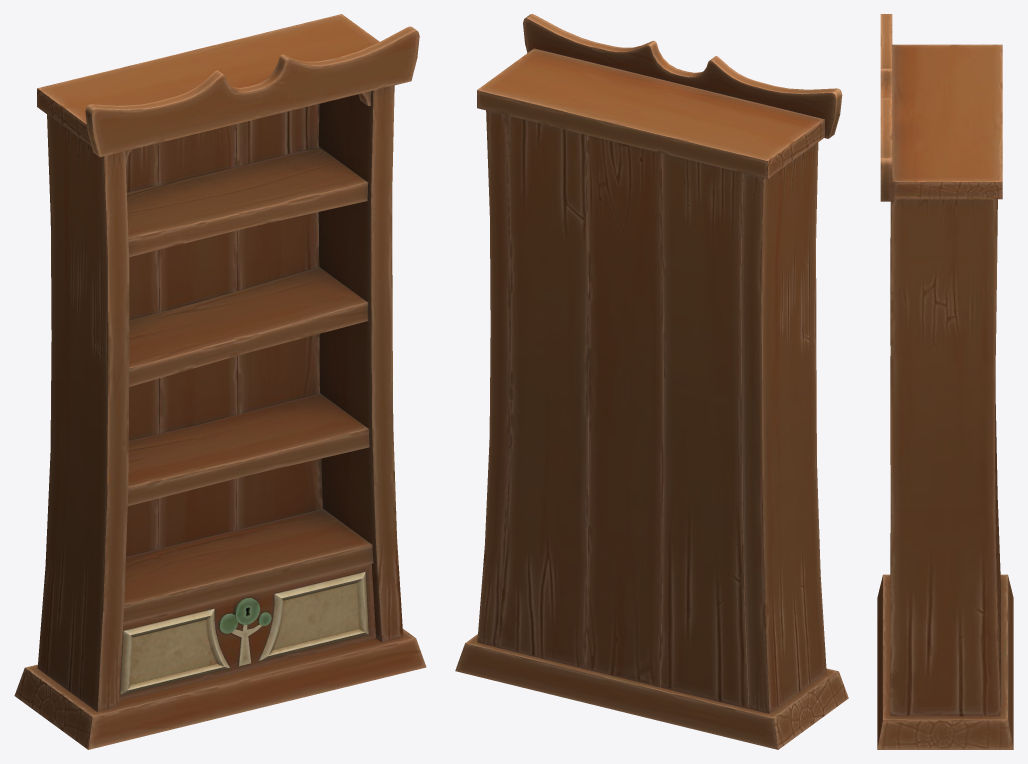
The picture shows the model from 3 angles, left to right: view 1: azimuth 30°, elevation 25°; view 2: azimuth 150°, elevation 25°; view 3: azimuth 270°, elevation 25°; orthographic projection. The views are drawn at different scales.
Visible parts, largest first — view 1: sideParts_low, back3_low, back2_low, base_low, shelf1_low, topDecor_low, shelf3_low, shelf2_low, shelf4_low, top_low, downDecor_low, back1_low (+2 smaller); view 2: sideParts_low, back1_low, back3_low, back2_low, top_low, base_low, topDecor_low; view 3: sideParts_low, top_low, base_low, topDecor_low, back3_low, back1_low, back2_low.
Boxes of the visible parts, x1=… form: sideParts_low: x1=37, y1=85, x2=403, y2=712; back3_low: x1=236, y1=103, x2=322, y2=529; back2_low: x1=157, y1=124, x2=237, y2=548; base_low: x1=14, y1=629, x2=426, y2=749; shelf1_low: x1=123, y1=508, x2=373, y2=623; topDecor_low: x1=85, y1=26, x2=419, y2=157; shelf3_low: x1=129, y1=267, x2=368, y2=386; shelf2_low: x1=127, y1=393, x2=369, y2=506; shelf4_low: x1=127, y1=146, x2=368, y2=256; top_low: x1=37, y1=14, x2=379, y2=146; downDecor_low: x1=120, y1=571, x2=368, y2=694; back1_low: x1=126, y1=143, x2=159, y2=556; sideParts_low: x1=477, y1=110, x2=826, y2=713; back1_low: x1=661, y1=153, x2=749, y2=708; back3_low: x1=497, y1=115, x2=588, y2=669; back2_low: x1=586, y1=135, x2=663, y2=687; top_low: x1=477, y1=48, x2=824, y2=178; base_low: x1=455, y1=634, x2=848, y2=749; topDecor_low: x1=523, y1=14, x2=842, y2=138; sideParts_low: x1=890, y1=199, x2=1000, y2=716; top_low: x1=892, y1=44, x2=1002, y2=199; base_low: x1=877, y1=574, x2=1013, y2=749; topDecor_low: x1=880, y1=14, x2=892, y2=201; back3_low: x1=995, y1=199, x2=1000, y2=706; back1_low: x1=995, y1=377, x2=1000, y2=621; back2_low: x1=995, y1=403, x2=1000, y2=656.
Size of the model in its own units: 123 by 223 by 46.55.
1 material, 1 textured.
